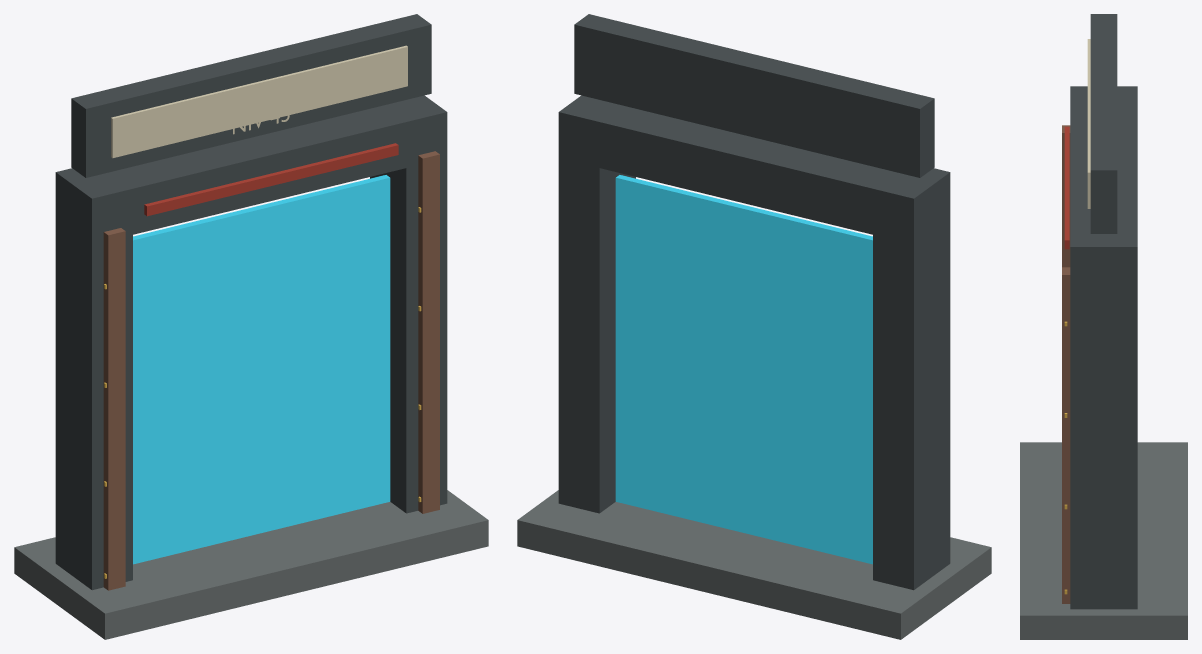
File: Refuge_Portal_06_Quarantaine_Niv45.fbx
3 views of the same model, side by side, from view 1: azimuth 30°, elevation 25°; view 2: azimuth 150°, elevation 25°; view 3: azimuth 270°, elevation 25° (orthographic). The views are drawn at different scales.
Parts seen in each view (by area): view 1: Refuge_Portal_06_Quarantaine_Niv45_portal, Refuge_Portal_06_Quarantaine_Niv45_iron, Refuge_Portal_06_Quarantaine_Niv45_concrete_dark, Refuge_Portal_06_Quarantaine_Niv45_rust, Refuge_Portal_06_Quarantaine_Niv45_paint, Refuge_Portal_06_Quarantaine_Niv45_red, Refuge_Portal_06_Quarantaine_Niv45_label; view 2: Refuge_Portal_06_Quarantaine_Niv45_iron, Refuge_Portal_06_Quarantaine_Niv45_portal, Refuge_Portal_06_Quarantaine_Niv45_concrete_dark; view 3: Refuge_Portal_06_Quarantaine_Niv45_iron, Refuge_Portal_06_Quarantaine_Niv45_concrete_dark, Refuge_Portal_06_Quarantaine_Niv45_rust, Refuge_Portal_06_Quarantaine_Niv45_red, Refuge_Portal_06_Quarantaine_Niv45_paint.
Part boxes in pixels (box(x1,y1,x2,y2)): Refuge_Portal_06_Quarantaine_Niv45_portal: box(133, 175, 390, 564); Refuge_Portal_06_Quarantaine_Niv45_iron: box(55, 14, 447, 590); Refuge_Portal_06_Quarantaine_Niv45_concrete_dark: box(14, 490, 488, 639); Refuge_Portal_06_Quarantaine_Niv45_rust: box(103, 151, 439, 590); Refuge_Portal_06_Quarantaine_Niv45_paint: box(111, 45, 407, 158); Refuge_Portal_06_Quarantaine_Niv45_red: box(144, 143, 398, 216); Refuge_Portal_06_Quarantaine_Niv45_label: box(151, 58, 370, 134); Refuge_Portal_06_Quarantaine_Niv45_iron: box(558, 14, 950, 590); Refuge_Portal_06_Quarantaine_Niv45_portal: box(615, 175, 872, 564); Refuge_Portal_06_Quarantaine_Niv45_concrete_dark: box(517, 490, 991, 639); Refuge_Portal_06_Quarantaine_Niv45_iron: box(1070, 14, 1137, 609); Refuge_Portal_06_Quarantaine_Niv45_concrete_dark: box(1020, 442, 1187, 639); Refuge_Portal_06_Quarantaine_Niv45_rust: box(1062, 125, 1070, 603); Refuge_Portal_06_Quarantaine_Niv45_red: box(1064, 126, 1069, 249); Refuge_Portal_06_Quarantaine_Niv45_paint: box(1087, 39, 1090, 208).
Bounding box in the file's own units: 12.2 × 15.15 × 5.
